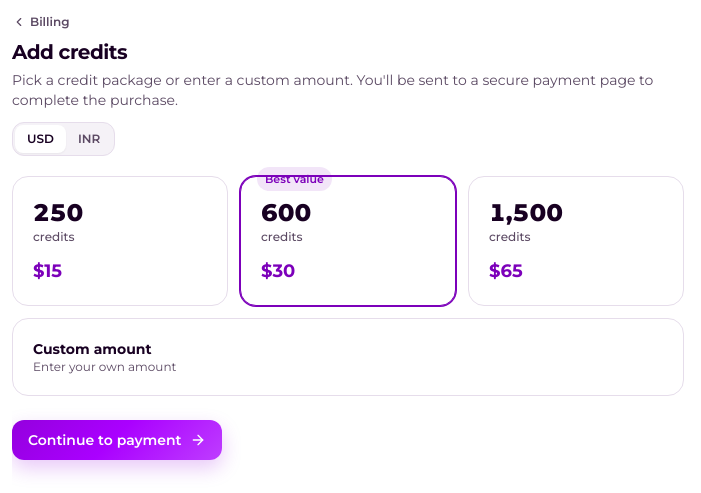
Test: AddCredits › switches to INR pricing when the currency toggle is used
This screenshot has width=701, height=493.
Expected: the text "$15" is shown, [33,260,62,282]
Click the button "INR". click: (89, 139)
box: [66,125,112,153]
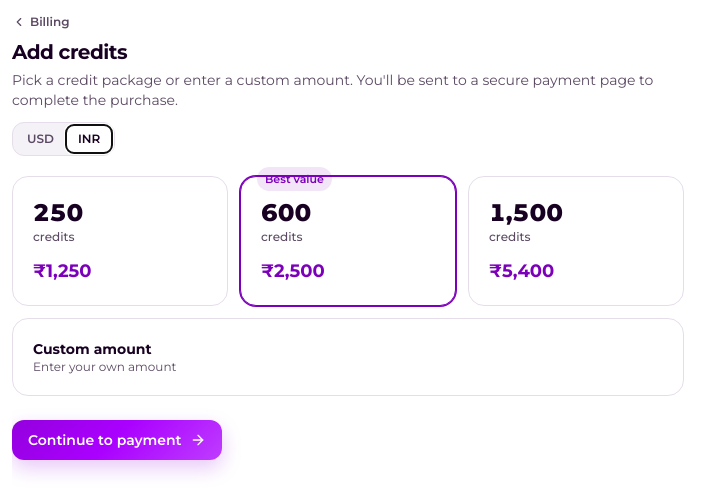
Expected: the text "₹1,250" is shown, [33,260,92,282]
